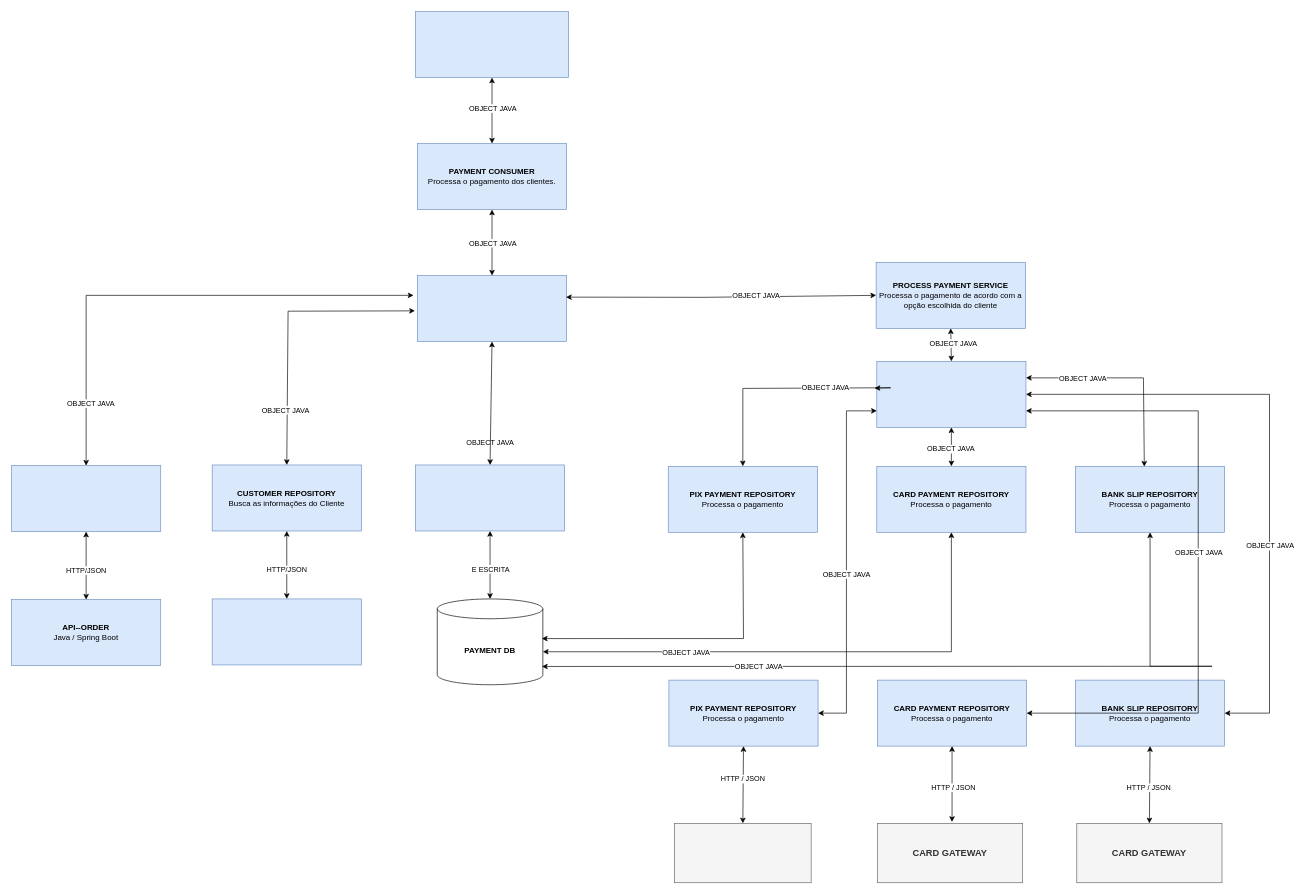
Some shapes in this 1305 by 894 pixel diagram are drawn without their labels. Each missing label, with the box of its shape:
API--CUSTOMER Java / Spring Boot: (212, 598, 361, 665)
LOG REPOSITORY Salva o log do processamento: (415, 464, 565, 531)
ORDER REPOSITORY Atualiza o status do pedido: (11, 465, 161, 532)
PAYMENT SERVICE Processa o pagamento dos clientes.: (417, 275, 567, 342)
PAYMENT TYPE STRATEGY Direciona para a forma de pagamento selecionada: (876, 361, 1026, 427)
PIX GATEWAY: (674, 823, 811, 883)
SERVICE--PAYMENT Java / Spring Boot: (415, 11, 569, 78)
